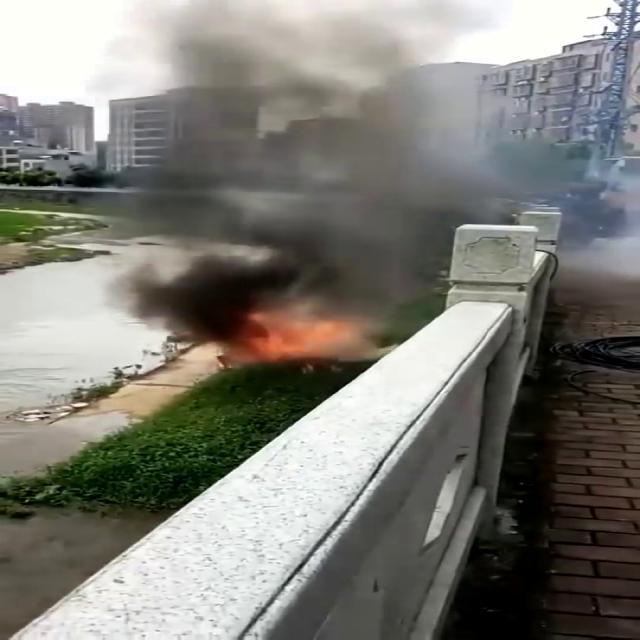Fire: (246, 304, 370, 374)
Smoke: (92, 0, 588, 287)
